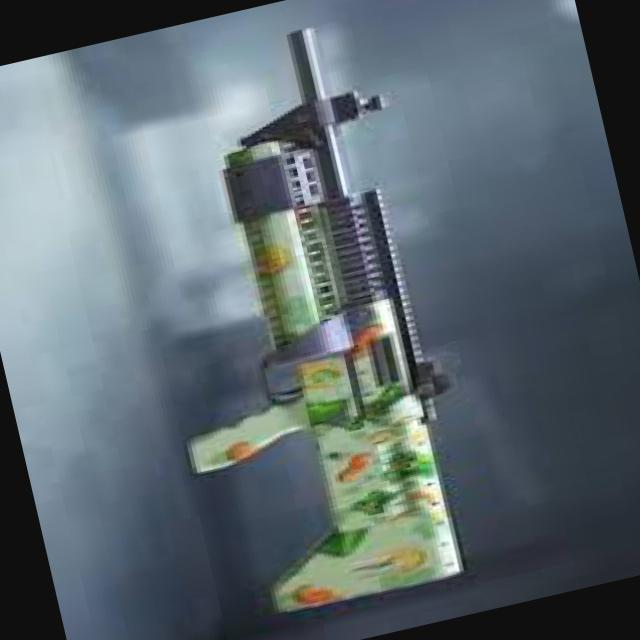long weapon: (99, 1, 533, 640)
